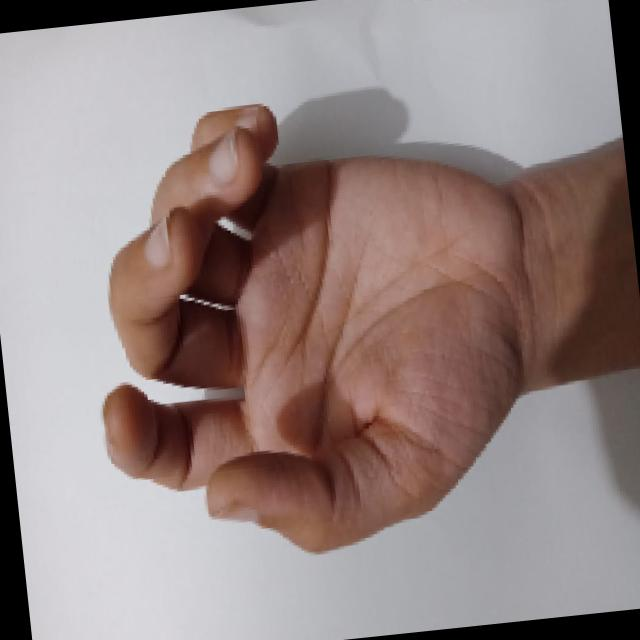Nail: (209, 127, 238, 183), (145, 213, 170, 266), (214, 503, 259, 523), (236, 109, 257, 129)
